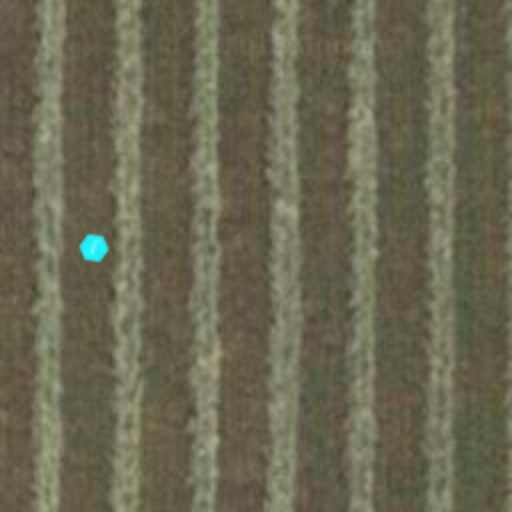hexagon: (76, 230, 112, 266)
